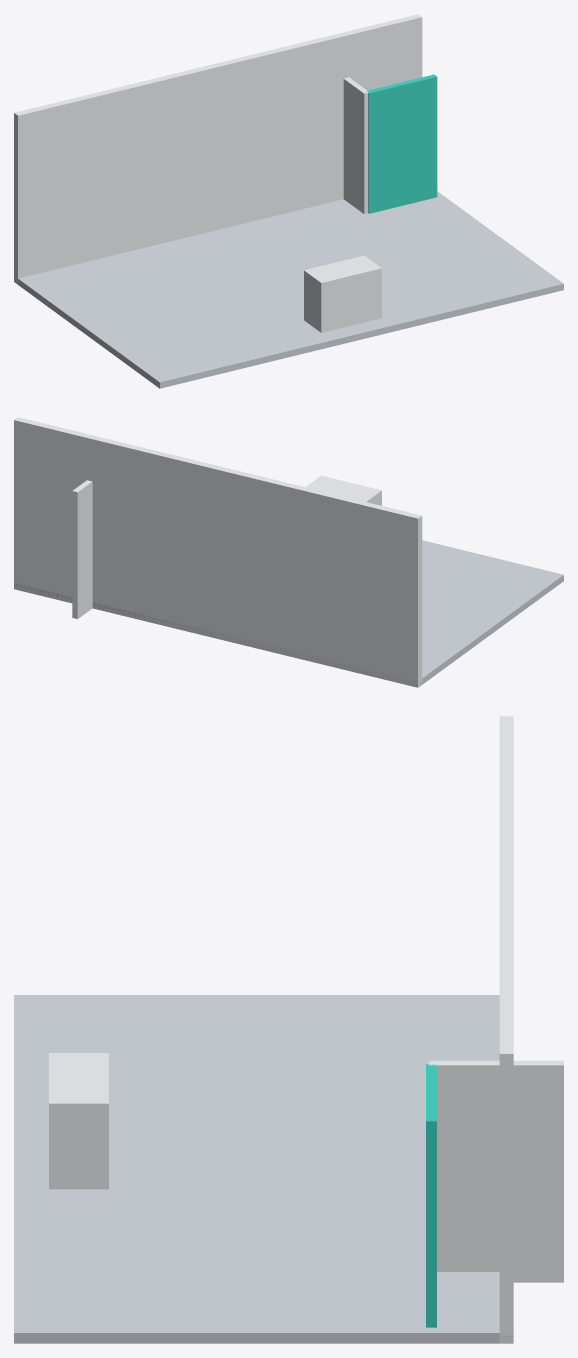
3 renders of one model, top to bottom at view 1: azimuth 30°, elevation 25°; view 2: azimuth 150°, elevation 25°; view 3: azimuth 270°, elevation 25°, orthographic. The views are drawn at different scales.
Visible parts, largest first — view 1: Exhibition Booth Concept; view 2: Exhibition Booth Concept; view 3: Exhibition Booth Concept.
Part boxes in pixels (x1=…): Exhibition Booth Concept: x1=14, y1=14, x2=563, y2=388; Exhibition Booth Concept: x1=14, y1=417, x2=563, y2=687; Exhibition Booth Concept: x1=14, y1=716, x2=563, y2=1343.
Bounding box in the file's own units: 8 × 3.2 × 5.51.
